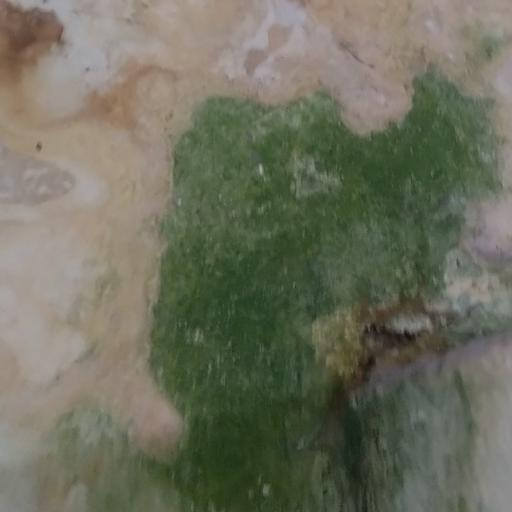algae: (101, 41, 512, 512)
